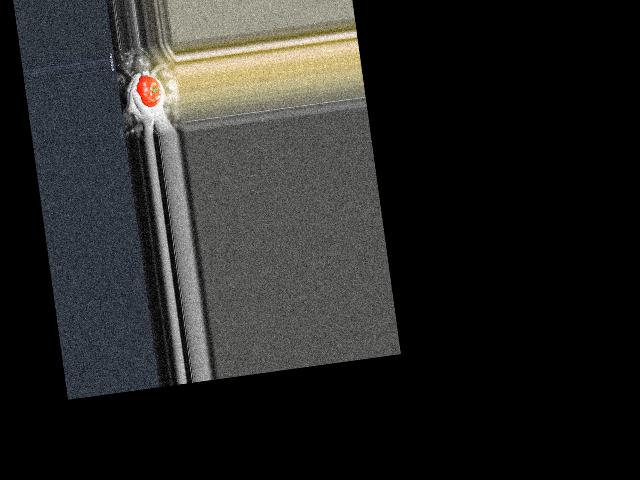tomato: (134, 74, 163, 109)
